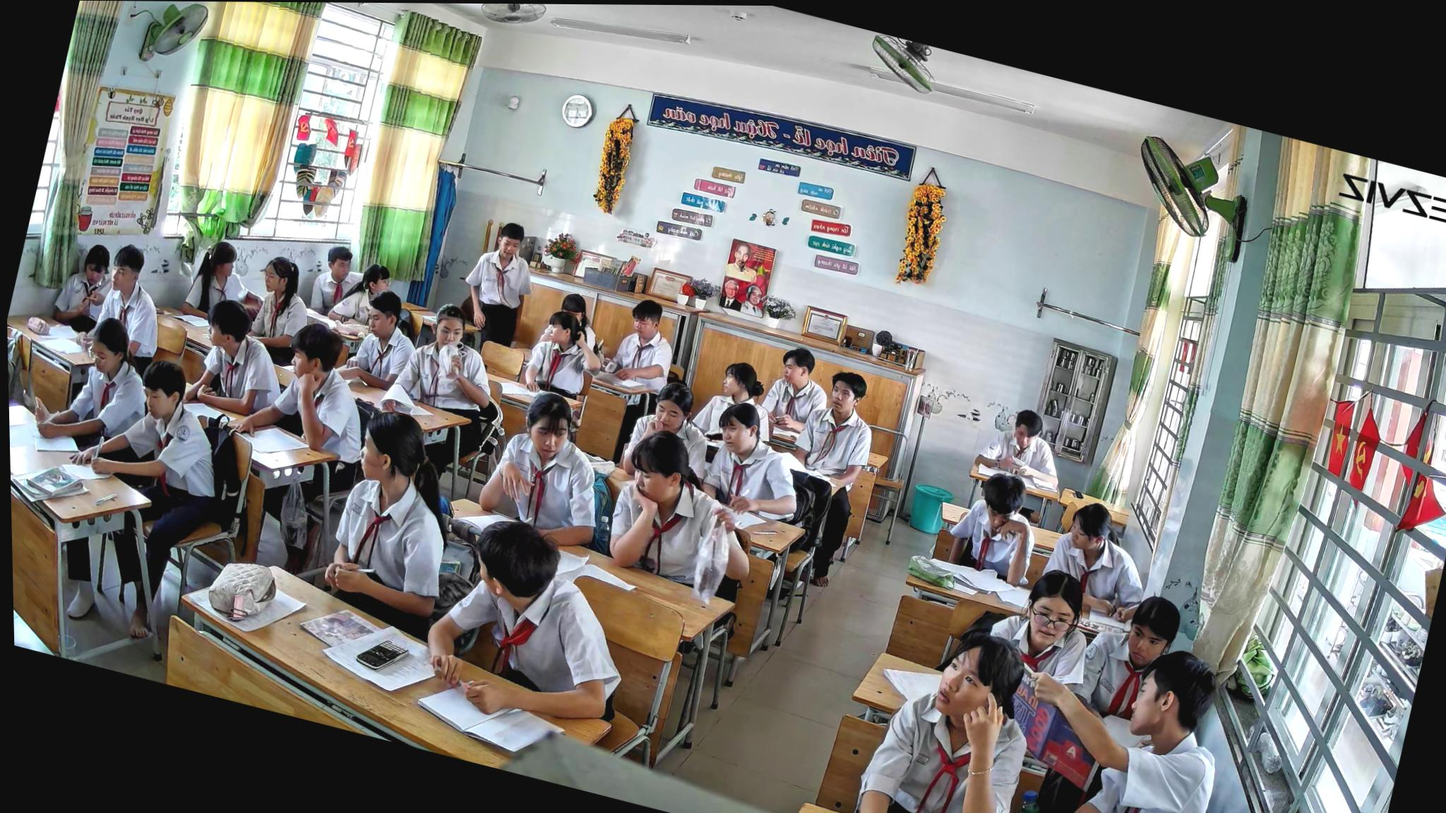person: (25, 342, 257, 654), (408, 505, 656, 745), (7, 302, 171, 621), (982, 615, 1246, 813), (837, 609, 1052, 813), (306, 401, 484, 641), (222, 308, 397, 505), (599, 423, 778, 603), (757, 361, 893, 594), (467, 380, 628, 557), (366, 292, 515, 479), (976, 556, 1112, 699), (1066, 581, 1192, 735), (174, 292, 299, 444), (1031, 492, 1166, 627), (574, 290, 686, 451), (692, 395, 821, 527), (939, 463, 1052, 588), (614, 368, 727, 491), (450, 213, 548, 352), (80, 239, 180, 373), (329, 282, 432, 400), (683, 351, 789, 455), (236, 251, 325, 373), (517, 303, 614, 407), (176, 234, 276, 333), (970, 398, 1074, 487), (753, 341, 841, 439), (46, 236, 120, 337), (532, 286, 615, 361), (324, 254, 400, 334), (301, 240, 368, 323)
